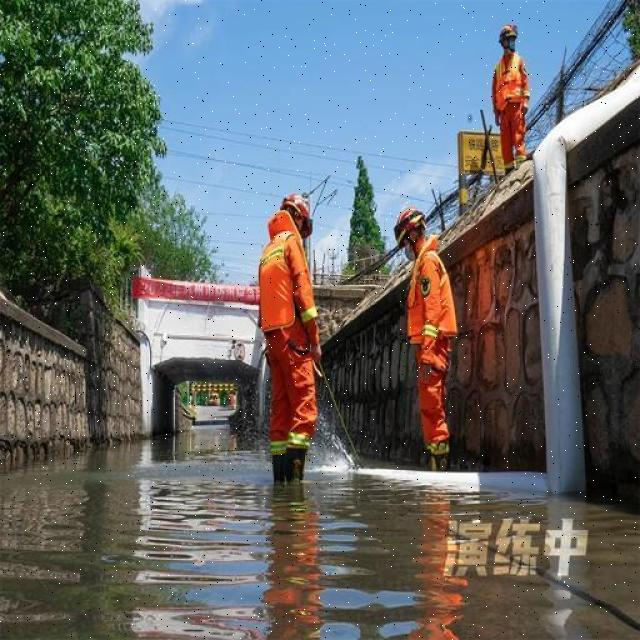rescuer: (238, 183, 360, 497), (377, 202, 481, 486), (469, 14, 547, 195)
